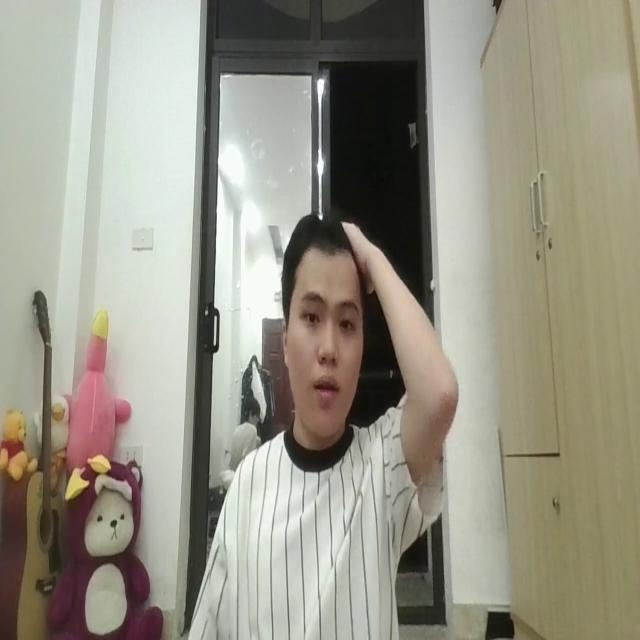student: (190, 206, 454, 640)
